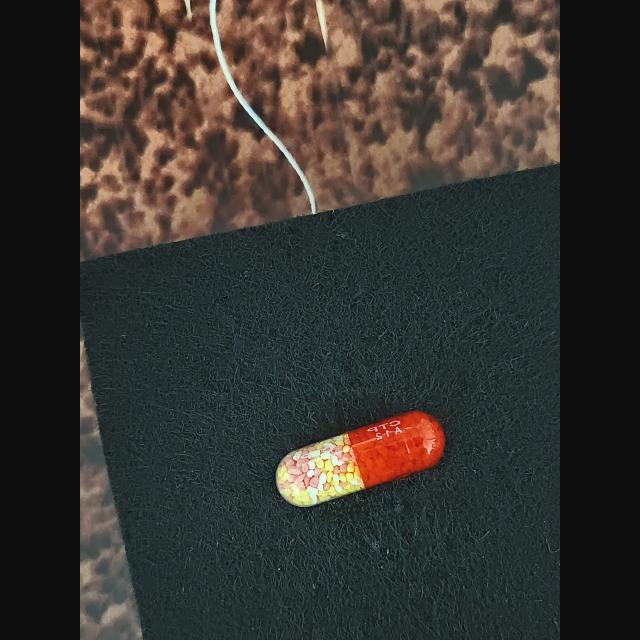Intact Capsule: (275, 411, 445, 507)
